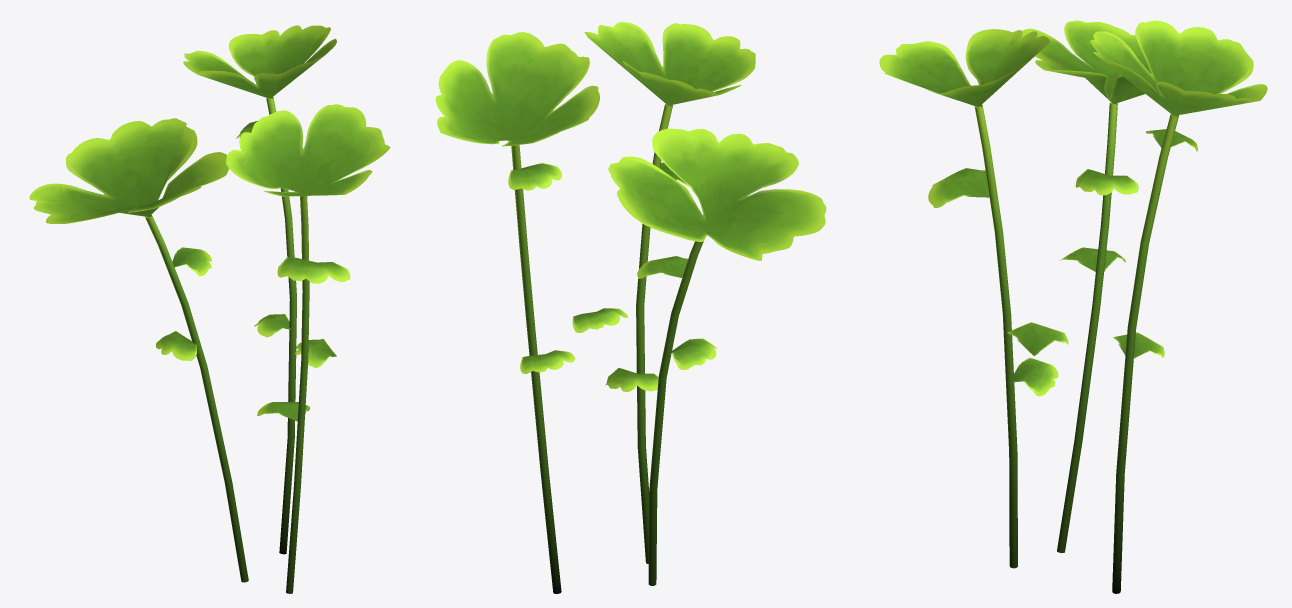
Rendered from clover.glb.
The picture shows the model from 3 angles, left to right: view 1: azimuth 30°, elevation 25°; view 2: azimuth 150°, elevation 25°; view 3: azimuth 270°, elevation 25°; orthographic projection. The views are drawn at different scales.
Visible parts, largest first — view 1: Clover_1; view 2: Clover_1; view 3: Clover_1.
Boxes of the visible parts, x1,y1,x2,y2 form: Clover_1: [29, 25, 390, 593]; Clover_1: [435, 22, 826, 593]; Clover_1: [879, 20, 1267, 593].
Bounding box in the file's own units: 0.6956 × 1 × 0.6673.
1 material, 1 textured.
